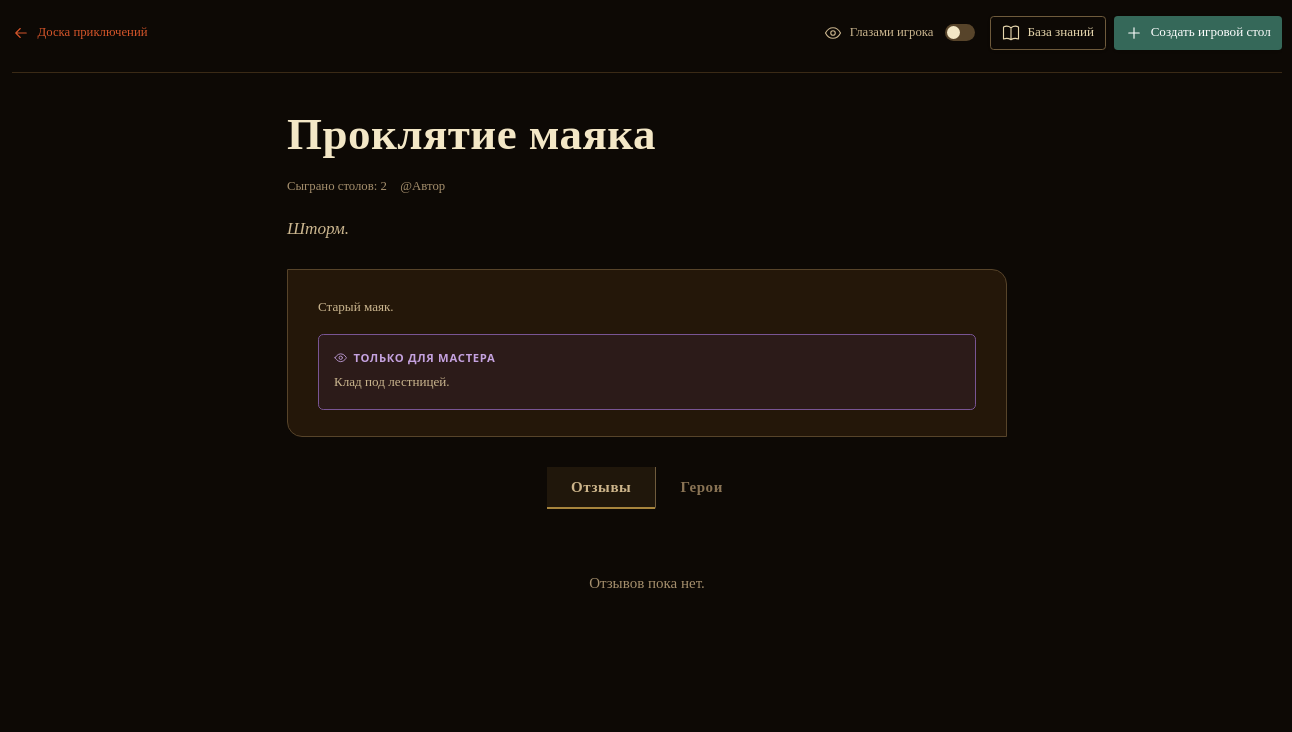
public campaign page › shows the GM the master text in the description and hides it in the player view
This screenshot has width=1292, height=732.
Expected: the text "@Автор" is shown, x1=400 y1=177 x2=445 y2=196
Expected: the button "Создать игровой стол" is shown, x1=1114 y1=16 x2=1282 y2=50
Click the switch labelled "Глазами игрока": coordinates (900, 33) x1=817 y1=16 x2=982 y2=50
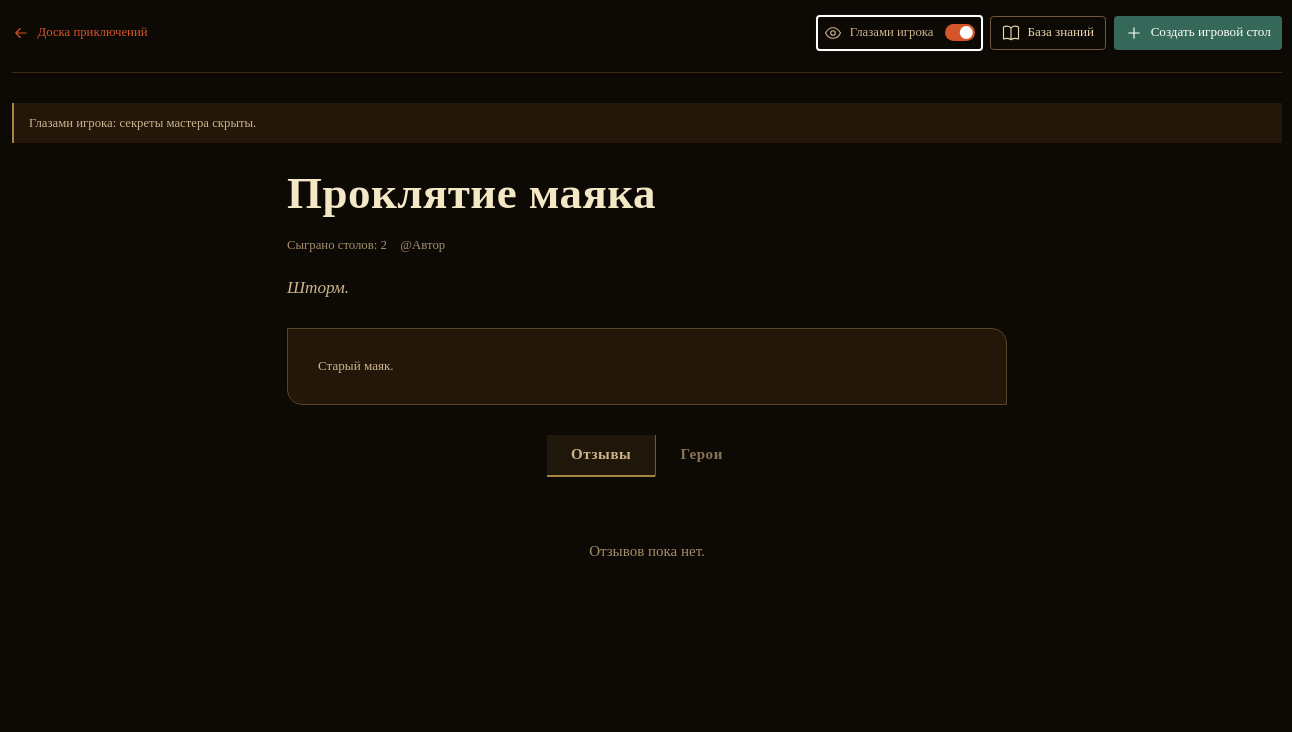
Expected: the text "Старый маяк." is shown, x1=318 y1=358 x2=394 y2=373
Result: the text "Глазами игрока: секреты мастера скрыты." is shown at x1=12 y1=103 x2=1282 y2=143
Result: the text "Клад под лестницей" is gone
